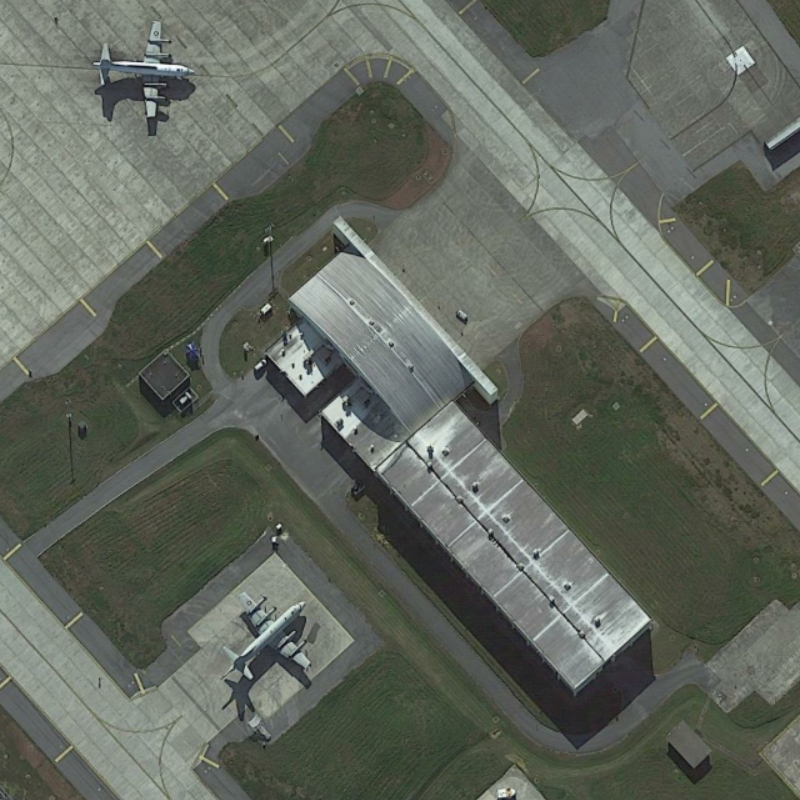A9: (84, 17, 206, 127), (211, 580, 322, 689)
